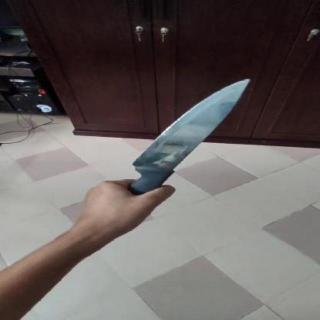knife: (135, 78, 253, 194)
